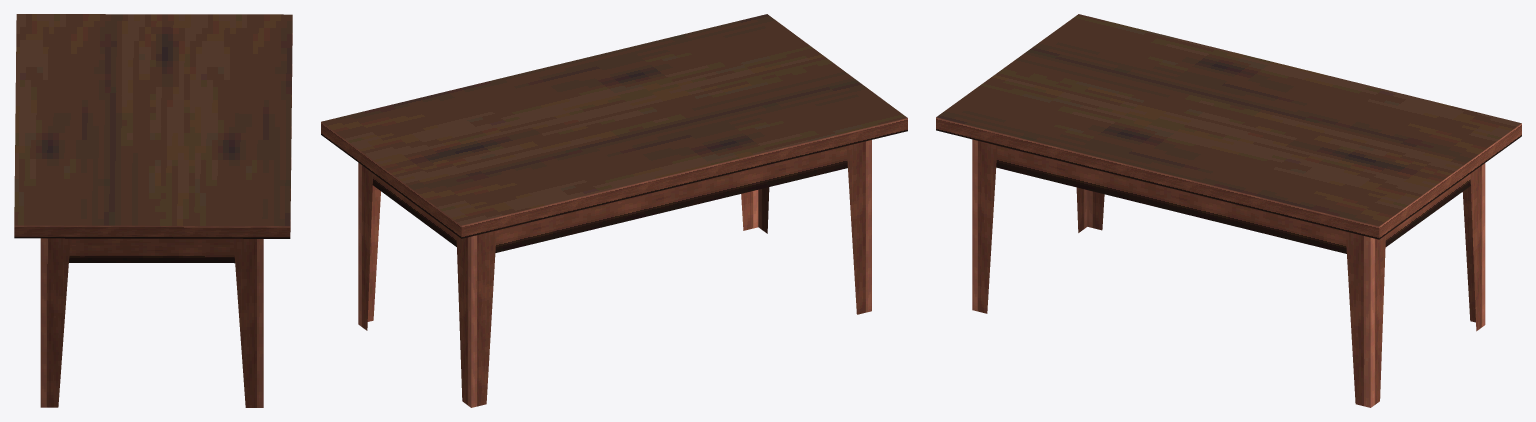
Rendered from primary_168.glb.
3 renders of one model, left to right at view 1: azimuth 30°, elevation 25°; view 2: azimuth 150°, elevation 25°; view 3: azimuth 270°, elevation 25°, orthographic. The views are drawn at different scales.
Visible parts, largest first — view 1: Object; view 2: Object; view 3: Object.
Part boxes in pixels (box(x1,y1,x2,y2)): Object: box(14, 14, 292, 407); Object: box(321, 14, 907, 407); Object: box(936, 14, 1521, 407).
Size of the model in its own units: 2.06 by 0.8928 by 2.4.
Materials: 4 (4 with a texture image).
